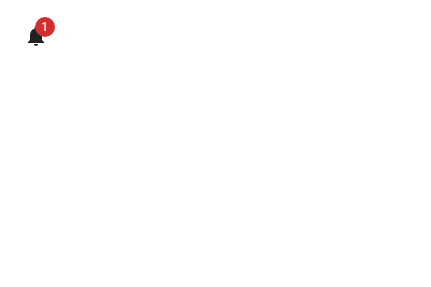
Test: NotificationMenu › updates unread badge after a successful mark-read
Later steps or results of the test are not shown.
Expected: the text "1" is shown, [35,17,55,37]
Click the button named "Notifications" at (36, 36), box [12,12,60,60]
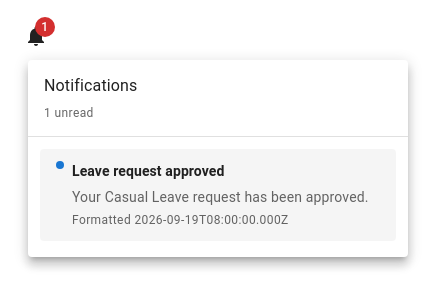
Now the text "Leave request approved" is shown, box [72,163,224,179]
